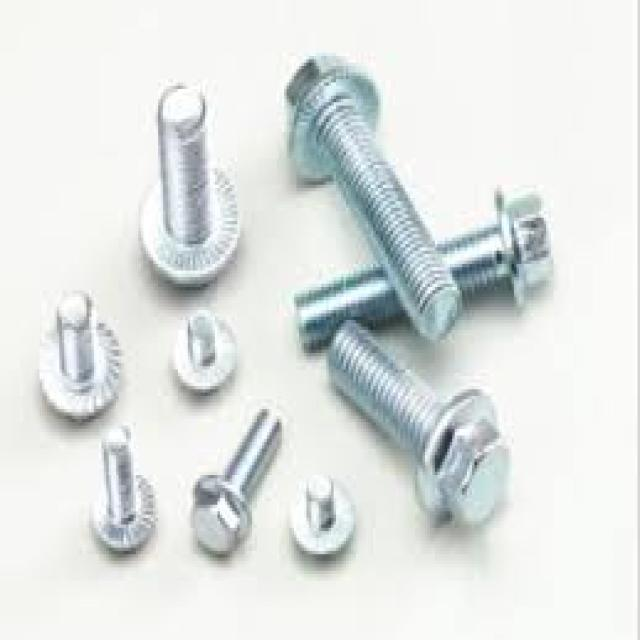metal: (277, 50, 460, 333), (284, 192, 554, 347), (321, 307, 507, 531), (138, 66, 240, 277), (188, 406, 279, 554), (32, 284, 119, 419), (89, 422, 158, 551), (287, 462, 351, 551), (171, 307, 235, 393)
